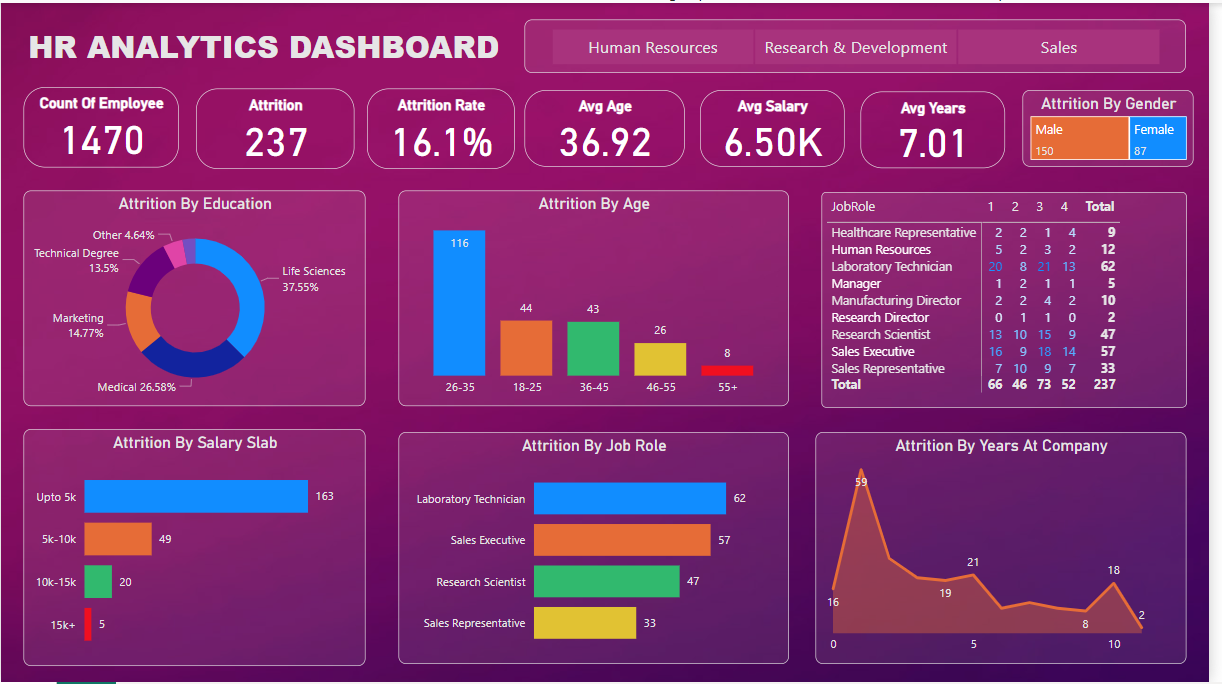

Layout of this report page (visuals, bound fields, positions):
{"tool":"powerbi","page":{"name":"Page 1","canvas":[1280,720],"ordinal":0},"visuals":[{"type":"card","title":"Count Of Employee","fields":{"Values":["CountNonNull(HR_Analytics.EmpID)"]},"box":[24.6,88.8,164.4,85],"z":0},{"type":"card","title":"Attrition Rate","fields":{"Values":["HR_Analytics.AttritionRate"]},"box":[387.4,90.7,156.9,85],"z":1000},{"type":"card","title":"Avg Age","fields":{"Values":["Avg(HR_Analytics.Age)"]},"box":[555.6,92.6,170.1,81.3],"z":2000},{"type":"card","title":"Attrition","fields":{"Values":["Sum(HR_Analytics.Attrition Count)"]},"box":[206,90.7,168.2,85],"z":3000},{"type":"card","title":"Avg Salary","fields":{"Values":["Avg(HR_Analytics.MonthlyIncome)"]},"box":[740.8,92.6,153.1,81.3],"z":4000},{"type":"card","title":"Avg Years","fields":{"Values":["Avg(HR_Analytics.YearsAtCompany)"]},"box":[910.9,94.5,153.1,81.3],"z":5000},{"type":"donutChart","title":"Attrition By Education","fields":{"Y":["Sum(HR_Analytics.Attrition Count)"],"Category":["HR_Analytics.EducationField"]},"box":[24.6,198.4,362.8,228.7],"z":6000},{"type":"columnChart","title":"Attrition By Age","fields":{"Category":["HR_Analytics.AgeGroup"],"Y":["Sum(HR_Analytics.Attrition Count)"]},"box":[421.4,198.4,413.9,228.7],"z":7000},{"type":"barChart","title":"Attrition By Salary Slab","fields":{"Category":["HR_Analytics.SalarySlab"],"Y":["Sum(HR_Analytics.Attrition Count)"]},"box":[24.6,451.7,362.8,251.3],"z":8000},{"type":"barChart","title":"Attrition By Job Role","fields":{"Y":["Sum(HR_Analytics.Attrition Count)"],"Category":["HR_Analytics.JobRole"]},"box":[421.4,455.4,413.9,245.7],"z":9000},{"type":"areaChart","title":"Attrition By Years At Company","fields":{"Category":["HR_Analytics.YearsAtCompany"],"Y":["Sum(HR_Analytics.Attrition Count)"]},"box":[863.6,455.4,393.1,245.7],"z":10000},{"type":"treemap","title":"Attrition By Gender","fields":{"Group":["HR_Analytics.Gender"],"Values":["Sum(HR_Analytics.Attrition Count)"]},"box":[1082.8,92.6,181.4,81.3],"z":11000},{"type":"slicer","fields":{"Values":["HR_Analytics.Department"]},"box":[555.6,17,701.1,56.7],"z":12000},{"type":"textbox","box":[24.6,17,531,56.7],"z":13000},{"type":"pivotTable","fields":{"Rows":["HR_Analytics.JobRole"],"Columns":["HR_Analytics.JobSatisfaction"],"Values":["Sum(HR_Analytics.Attrition Count)"]},"box":[870,201,387.4,228.7],"z":14000}]}

Visuals, with their boxes in screenshot pixels (x1, y1, x2, y2), scaled from the page's 1280x720 canvas onto the 1222x684 screenshot:
"Count Of Employee" card: [23,84,180,165]
"Attrition Rate" card: [370,86,520,167]
"Avg Age" card: [530,88,693,165]
"Attrition" card: [197,86,357,167]
"Avg Salary" card: [707,88,853,165]
"Avg Years" card: [870,90,1016,167]
"Attrition By Education" donutChart: [23,188,370,406]
"Attrition By Age" columnChart: [402,188,797,406]
"Attrition By Salary Slab" barChart: [23,429,370,668]
"Attrition By Job Role" barChart: [402,433,797,666]
"Attrition By Years At Company" areaChart: [824,433,1200,666]
"Attrition By Gender" treemap: [1034,88,1207,165]
slicer - HR_Analytics.Department: [530,16,1200,70]
textbox: [23,16,530,70]
pivotTable - HR_Analytics.JobRole x HR_Analytics.JobSatisfaction: [831,191,1200,408]
